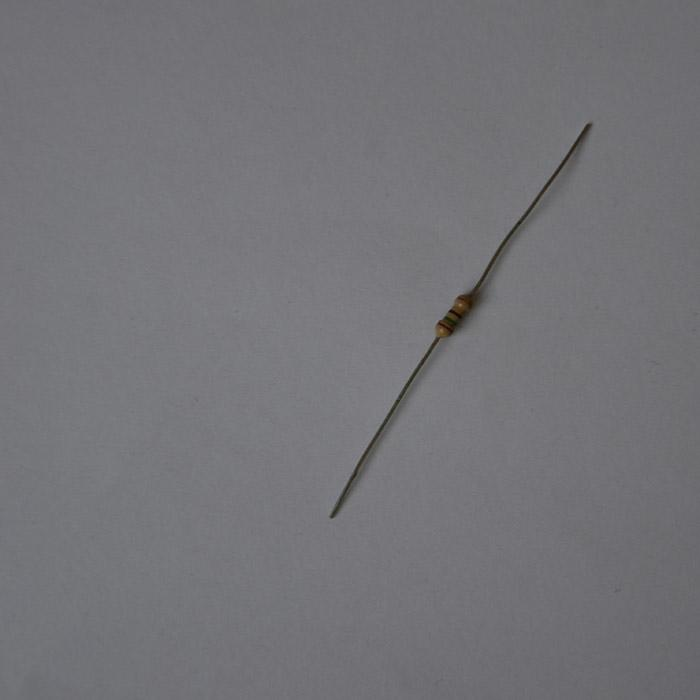resistor: (437, 293, 472, 340)
